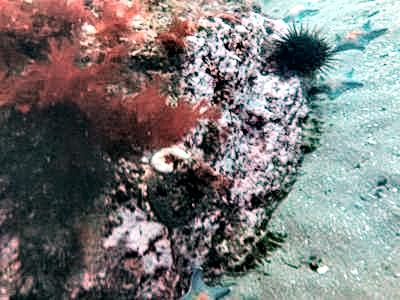urchin: (264, 20, 328, 75)
